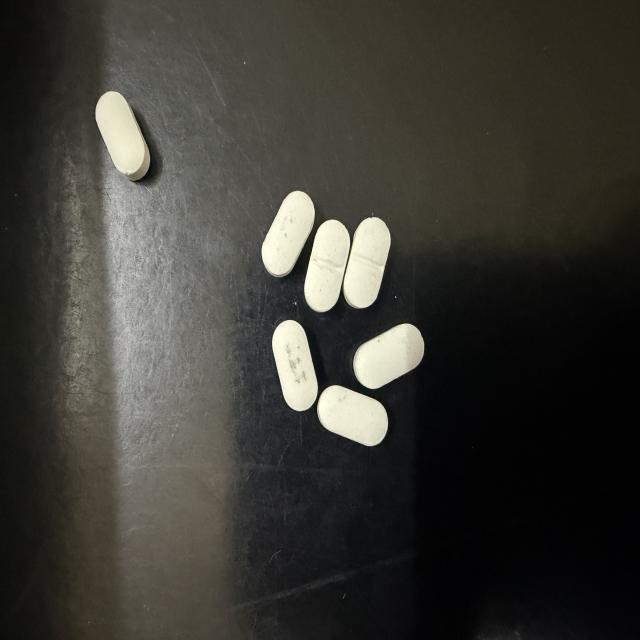pill: (96, 92, 150, 180), (354, 324, 424, 388), (262, 191, 314, 277), (343, 218, 390, 308), (305, 220, 350, 312), (318, 386, 387, 446), (272, 320, 317, 411)
